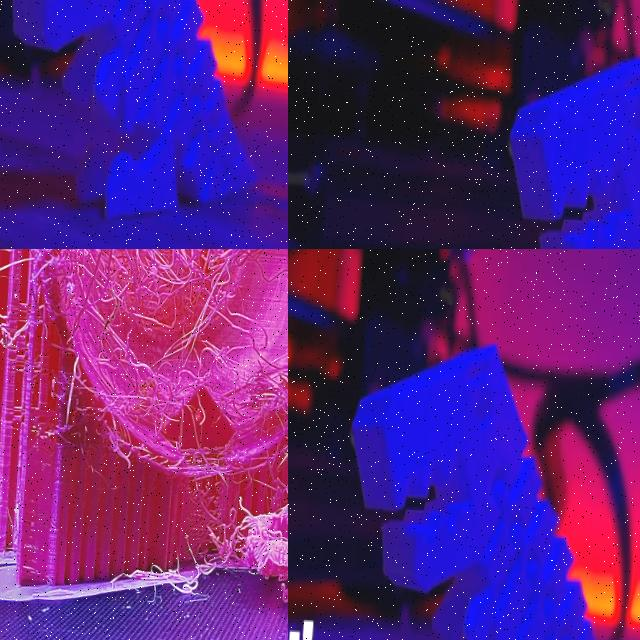spaghetti: (0, 249, 288, 626)
